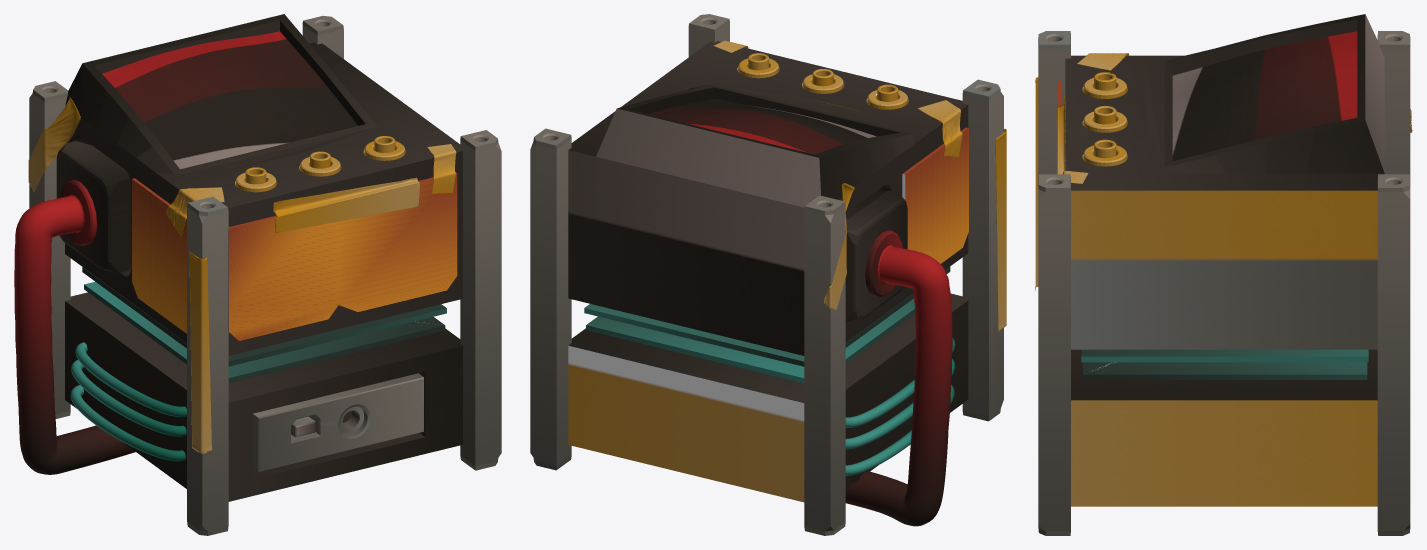
Rendered from box satellite.glb.
3 renders of one model, left to right at view 1: azimuth 30°, elevation 25°; view 2: azimuth 150°, elevation 25°; view 3: azimuth 270°, elevation 25°, orthographic. The views are drawn at different scales.
Visible parts, largest first — view 1: Cube, screen, tapes; view 2: Cube, screen, tapes; view 3: Cube, screen, tapes.
Part boxes in pixels (x1,y1,x2,y2): Cube: (14, 14, 501, 535); screen: (102, 31, 357, 169); tapes: (28, 97, 456, 453); Cube: (530, 14, 1003, 535); screen: (648, 98, 876, 154); tapes: (714, 40, 1006, 331); Cube: (1038, 14, 1410, 535); screen: (1172, 31, 1357, 161); tapes: (1035, 53, 1412, 290).
Size of the model in its own units: 2.66 by 2.59 by 2.22.
3 materials, 3 textured.
